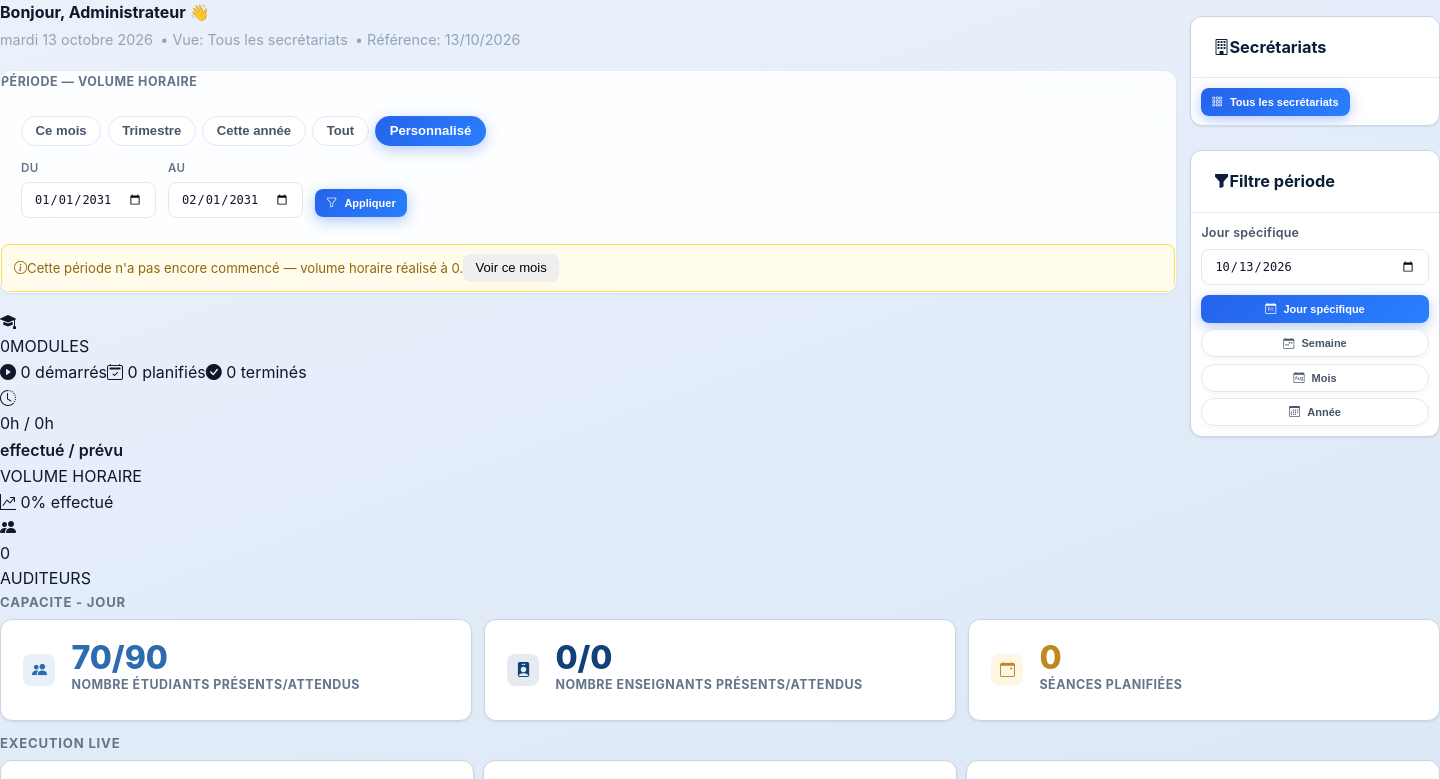
Test: pages/Dashboard.jsx — période volume horaire › avertit d’une période entièrement future puis le raccourci « Voir ce mois » rétablit le mois courant
expect the text "n'a pas encore commencé" is shown: met, box [27,260,463,276]
Click the button "Voir ce mois".
click(511, 268)  # box [463,254,559,282]
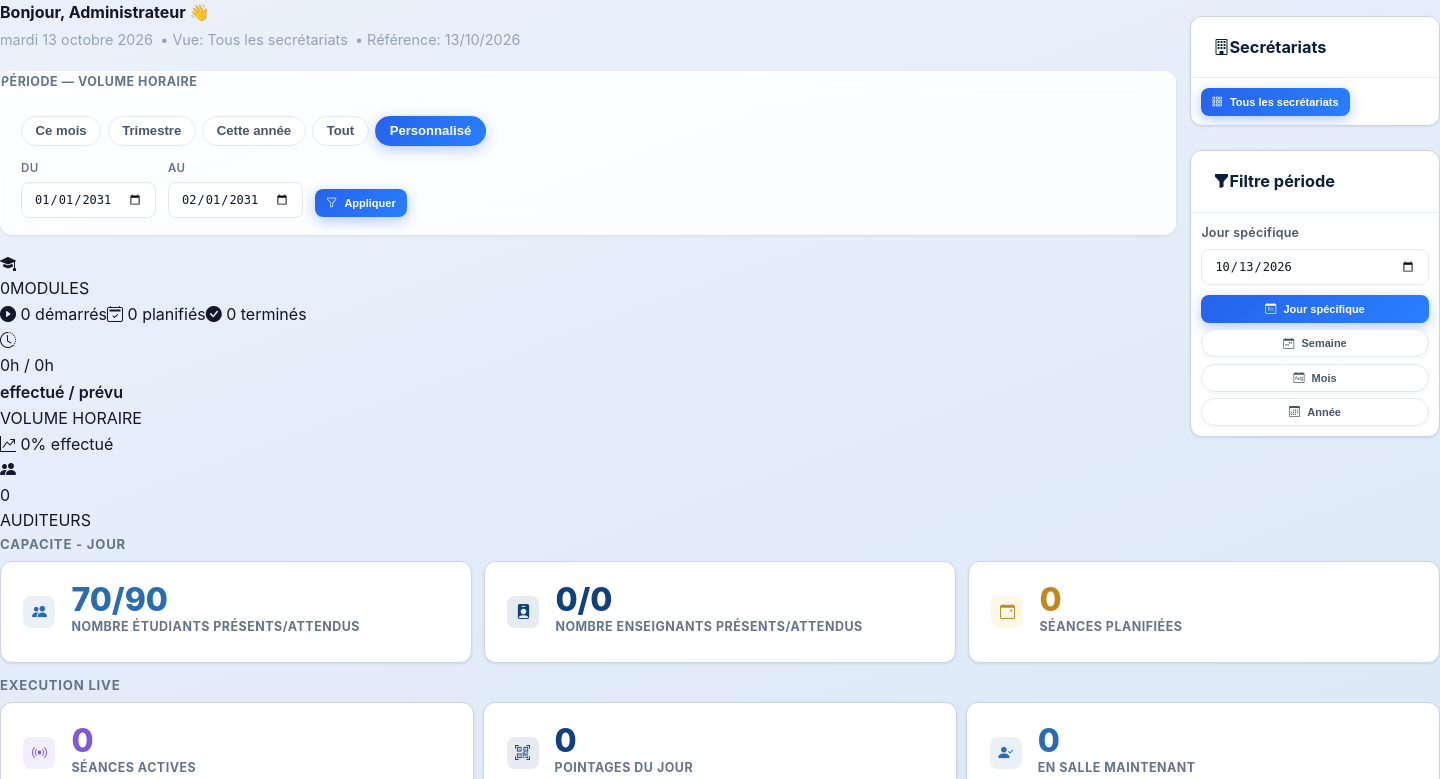
expect the text "n'a pas encore commencé" is gone: met
